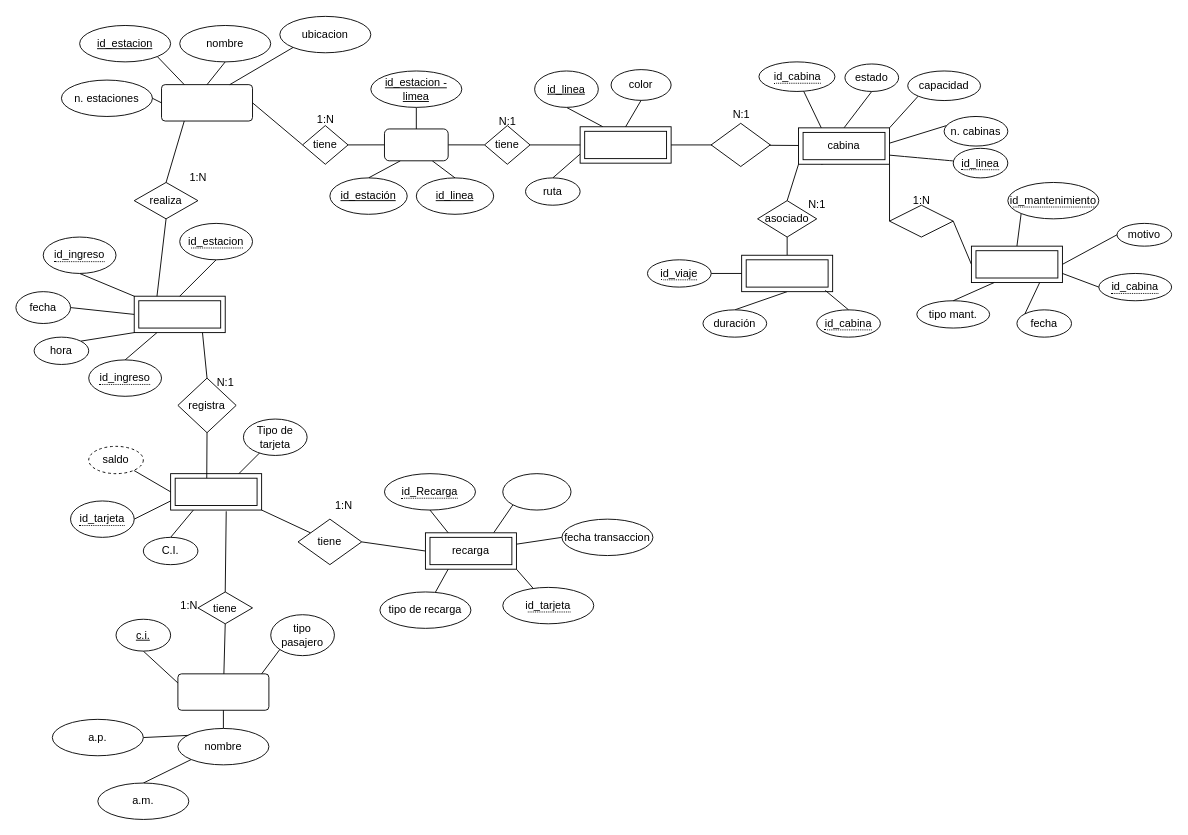
Image size: 1188x835. Some labels were removed from this diagram. The shapes that lost their labels are listed below. From the top down, each one's centre as x and y in pixels, then its label:
At (x=207, y=102): "Estacion".
At (x=416, y=144): "estacion - linea".
At (x=625, y=144): "linea".
At (x=740, y=144): "contiene".
At (x=921, y=220): "requiere".
At (x=787, y=273): "viaje".
At (x=1016, y=264): "mantenimiento".
At (x=179, y=314): "ingreso".
At (x=216, y=491): "tarjeta".
At (x=536, y=491): "monto".
At (x=223, y=691): "pasajero".
